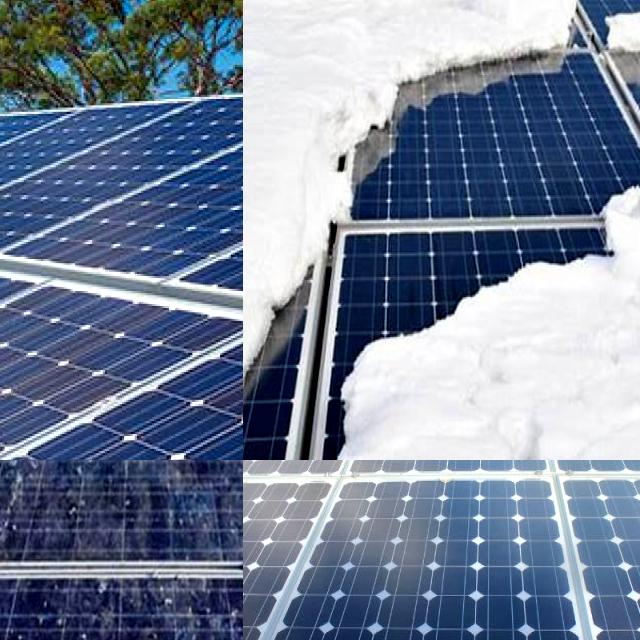bird: (0, 466, 30, 532), (77, 460, 184, 477), (128, 460, 195, 486), (0, 460, 32, 491)
crack: (0, 79, 243, 460), (243, 460, 640, 640), (344, 460, 578, 551), (243, 472, 361, 640), (544, 460, 640, 640), (243, 460, 424, 542), (525, 460, 640, 562)
panel: (317, 296, 424, 460), (450, 214, 598, 328), (338, 84, 400, 238), (268, 221, 360, 305), (514, 0, 586, 102), (243, 309, 284, 454), (379, 36, 493, 84), (600, 189, 640, 311), (536, 0, 640, 29), (387, 0, 518, 22), (243, 0, 345, 20)
